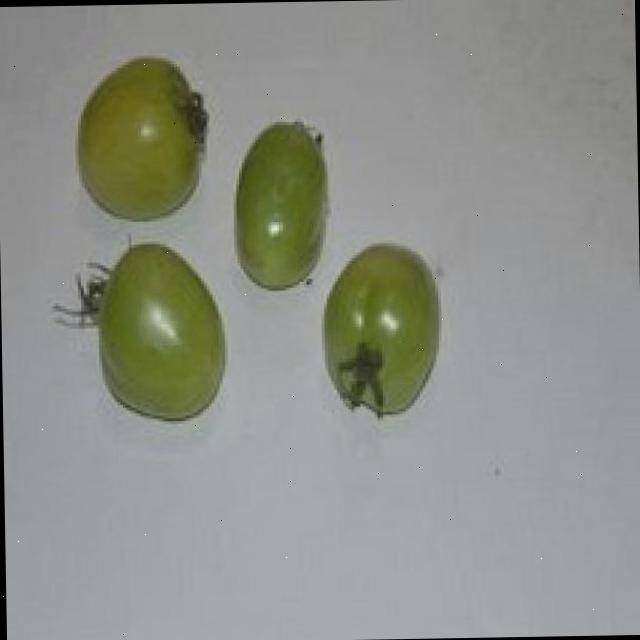tomato: (37, 47, 494, 435)
